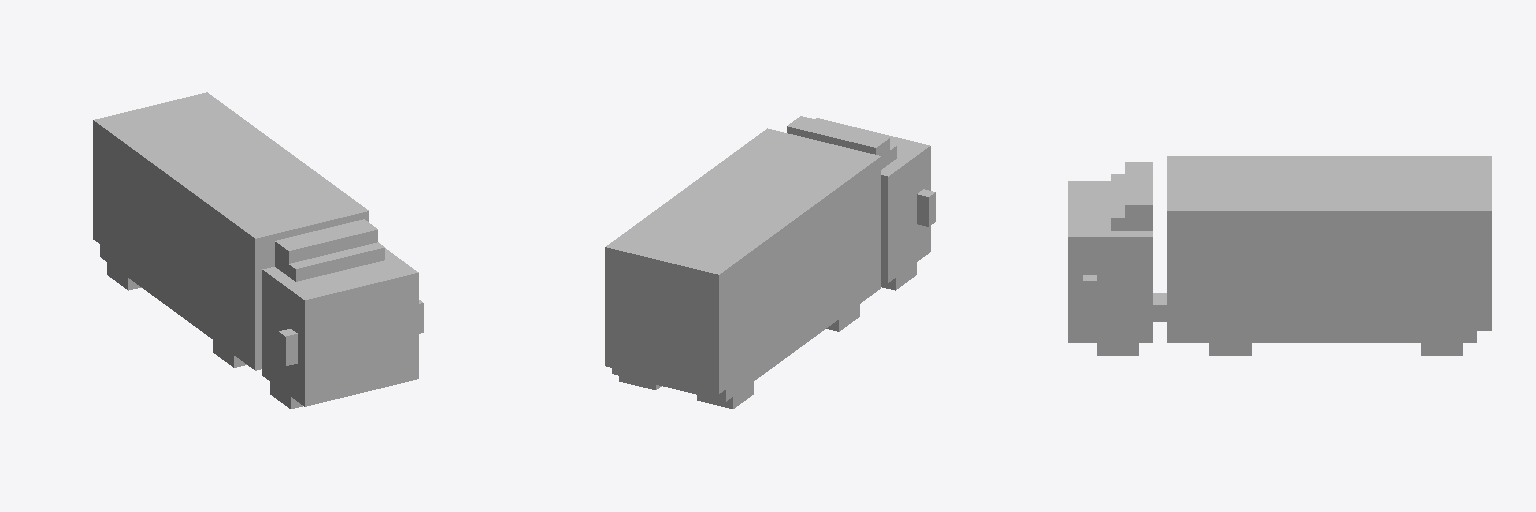
File: truck1.obj
3 renders of one model, left to right at view 1: azimuth 30°, elevation 25°; view 2: azimuth 150°, elevation 25°; view 3: azimuth 270°, elevation 25°, orthographic.
Visible parts, largest first — view 1: object 1; view 2: object 1; view 3: object 1.
Part boxes in pixels (left/top/right/bottom): object 1: left=93, top=92, right=423, bottom=408; object 1: left=605, top=116, right=935, bottom=408; object 1: left=1068, top=156, right=1491, bottom=355.
Size of the model in its own units: 3.4 by 3.4 by 9.